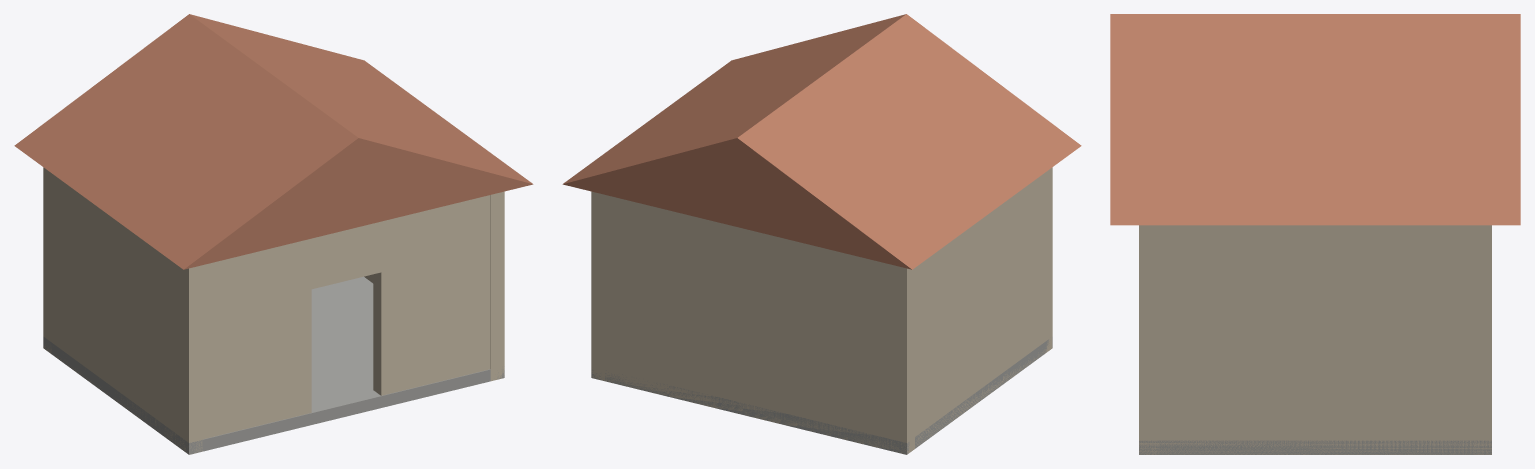
The model's file is shop.glb.
The picture shows the model from 3 angles, left to right: view 1: azimuth 30°, elevation 25°; view 2: azimuth 150°, elevation 25°; view 3: azimuth 270°, elevation 25°; orthographic projection. The views are drawn at different scales.
Visible parts, largest first — view 1: roof_removable, part_2, part_5, part_4, part_0, part_6, part_3, part_1; view 2: roof_removable, part_1, part_2, part_0, part_3, part_4; view 3: roof_removable, part_3, part_0, part_1, part_5.
Boxes of the visible parts, x1,y1,x2,y2 form: roof_removable: (14, 14, 533, 269); part_2: (43, 170, 202, 454); part_5: (373, 195, 490, 395); part_4: (182, 238, 311, 439); part_0: (43, 276, 504, 454); part_6: (311, 221, 381, 289); part_3: (364, 191, 504, 381); part_1: (43, 167, 51, 353); roof_removable: (562, 14, 1081, 269); part_1: (591, 191, 914, 454); part_2: (893, 167, 1052, 452); part_0: (591, 337, 1052, 454); part_3: (591, 192, 605, 380); part_4: (1044, 168, 1052, 353); roof_removable: (1110, 14, 1520, 225); part_3: (1139, 225, 1491, 454); part_0: (1139, 440, 1491, 454); part_1: (1472, 225, 1491, 454); part_5: (1140, 225, 1159, 454).
Bounding box in the file's own units: 5.55 × 4.35 × 4.65.
